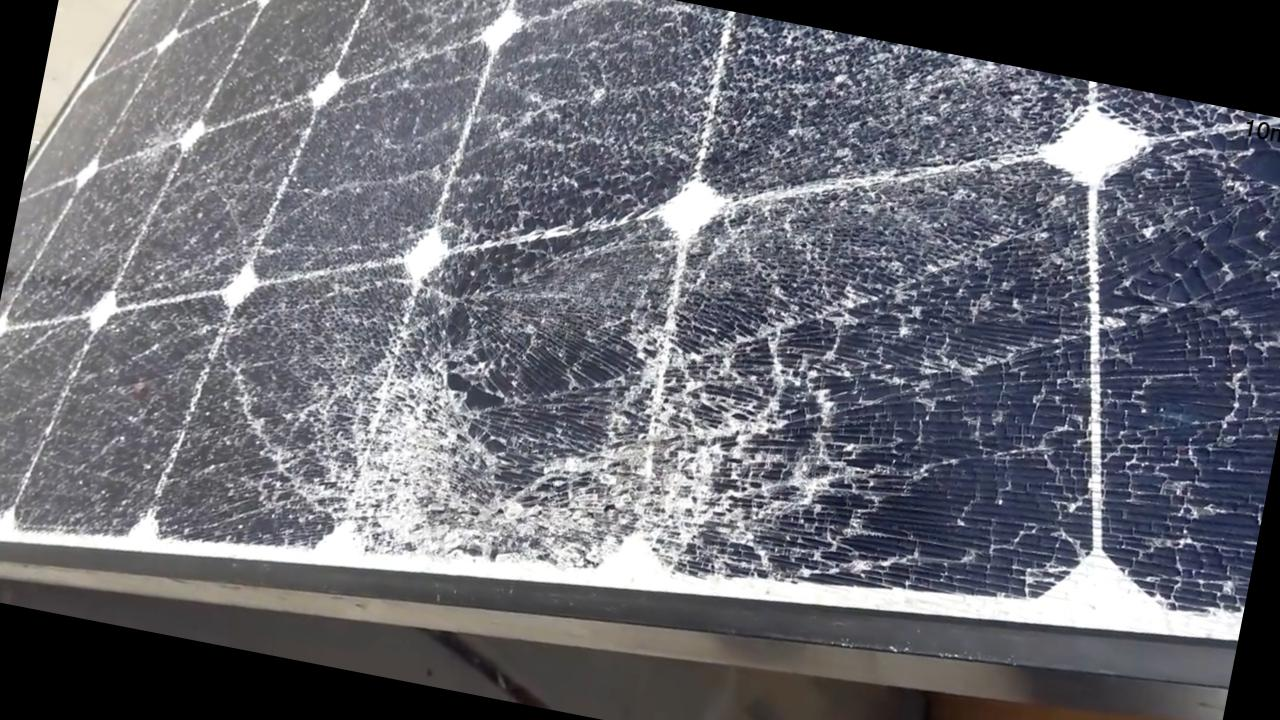Crack: (732, 244, 1279, 643), (312, 0, 802, 329), (789, 35, 1210, 312), (535, 305, 878, 633), (260, 314, 530, 596), (1179, 110, 1279, 321)
